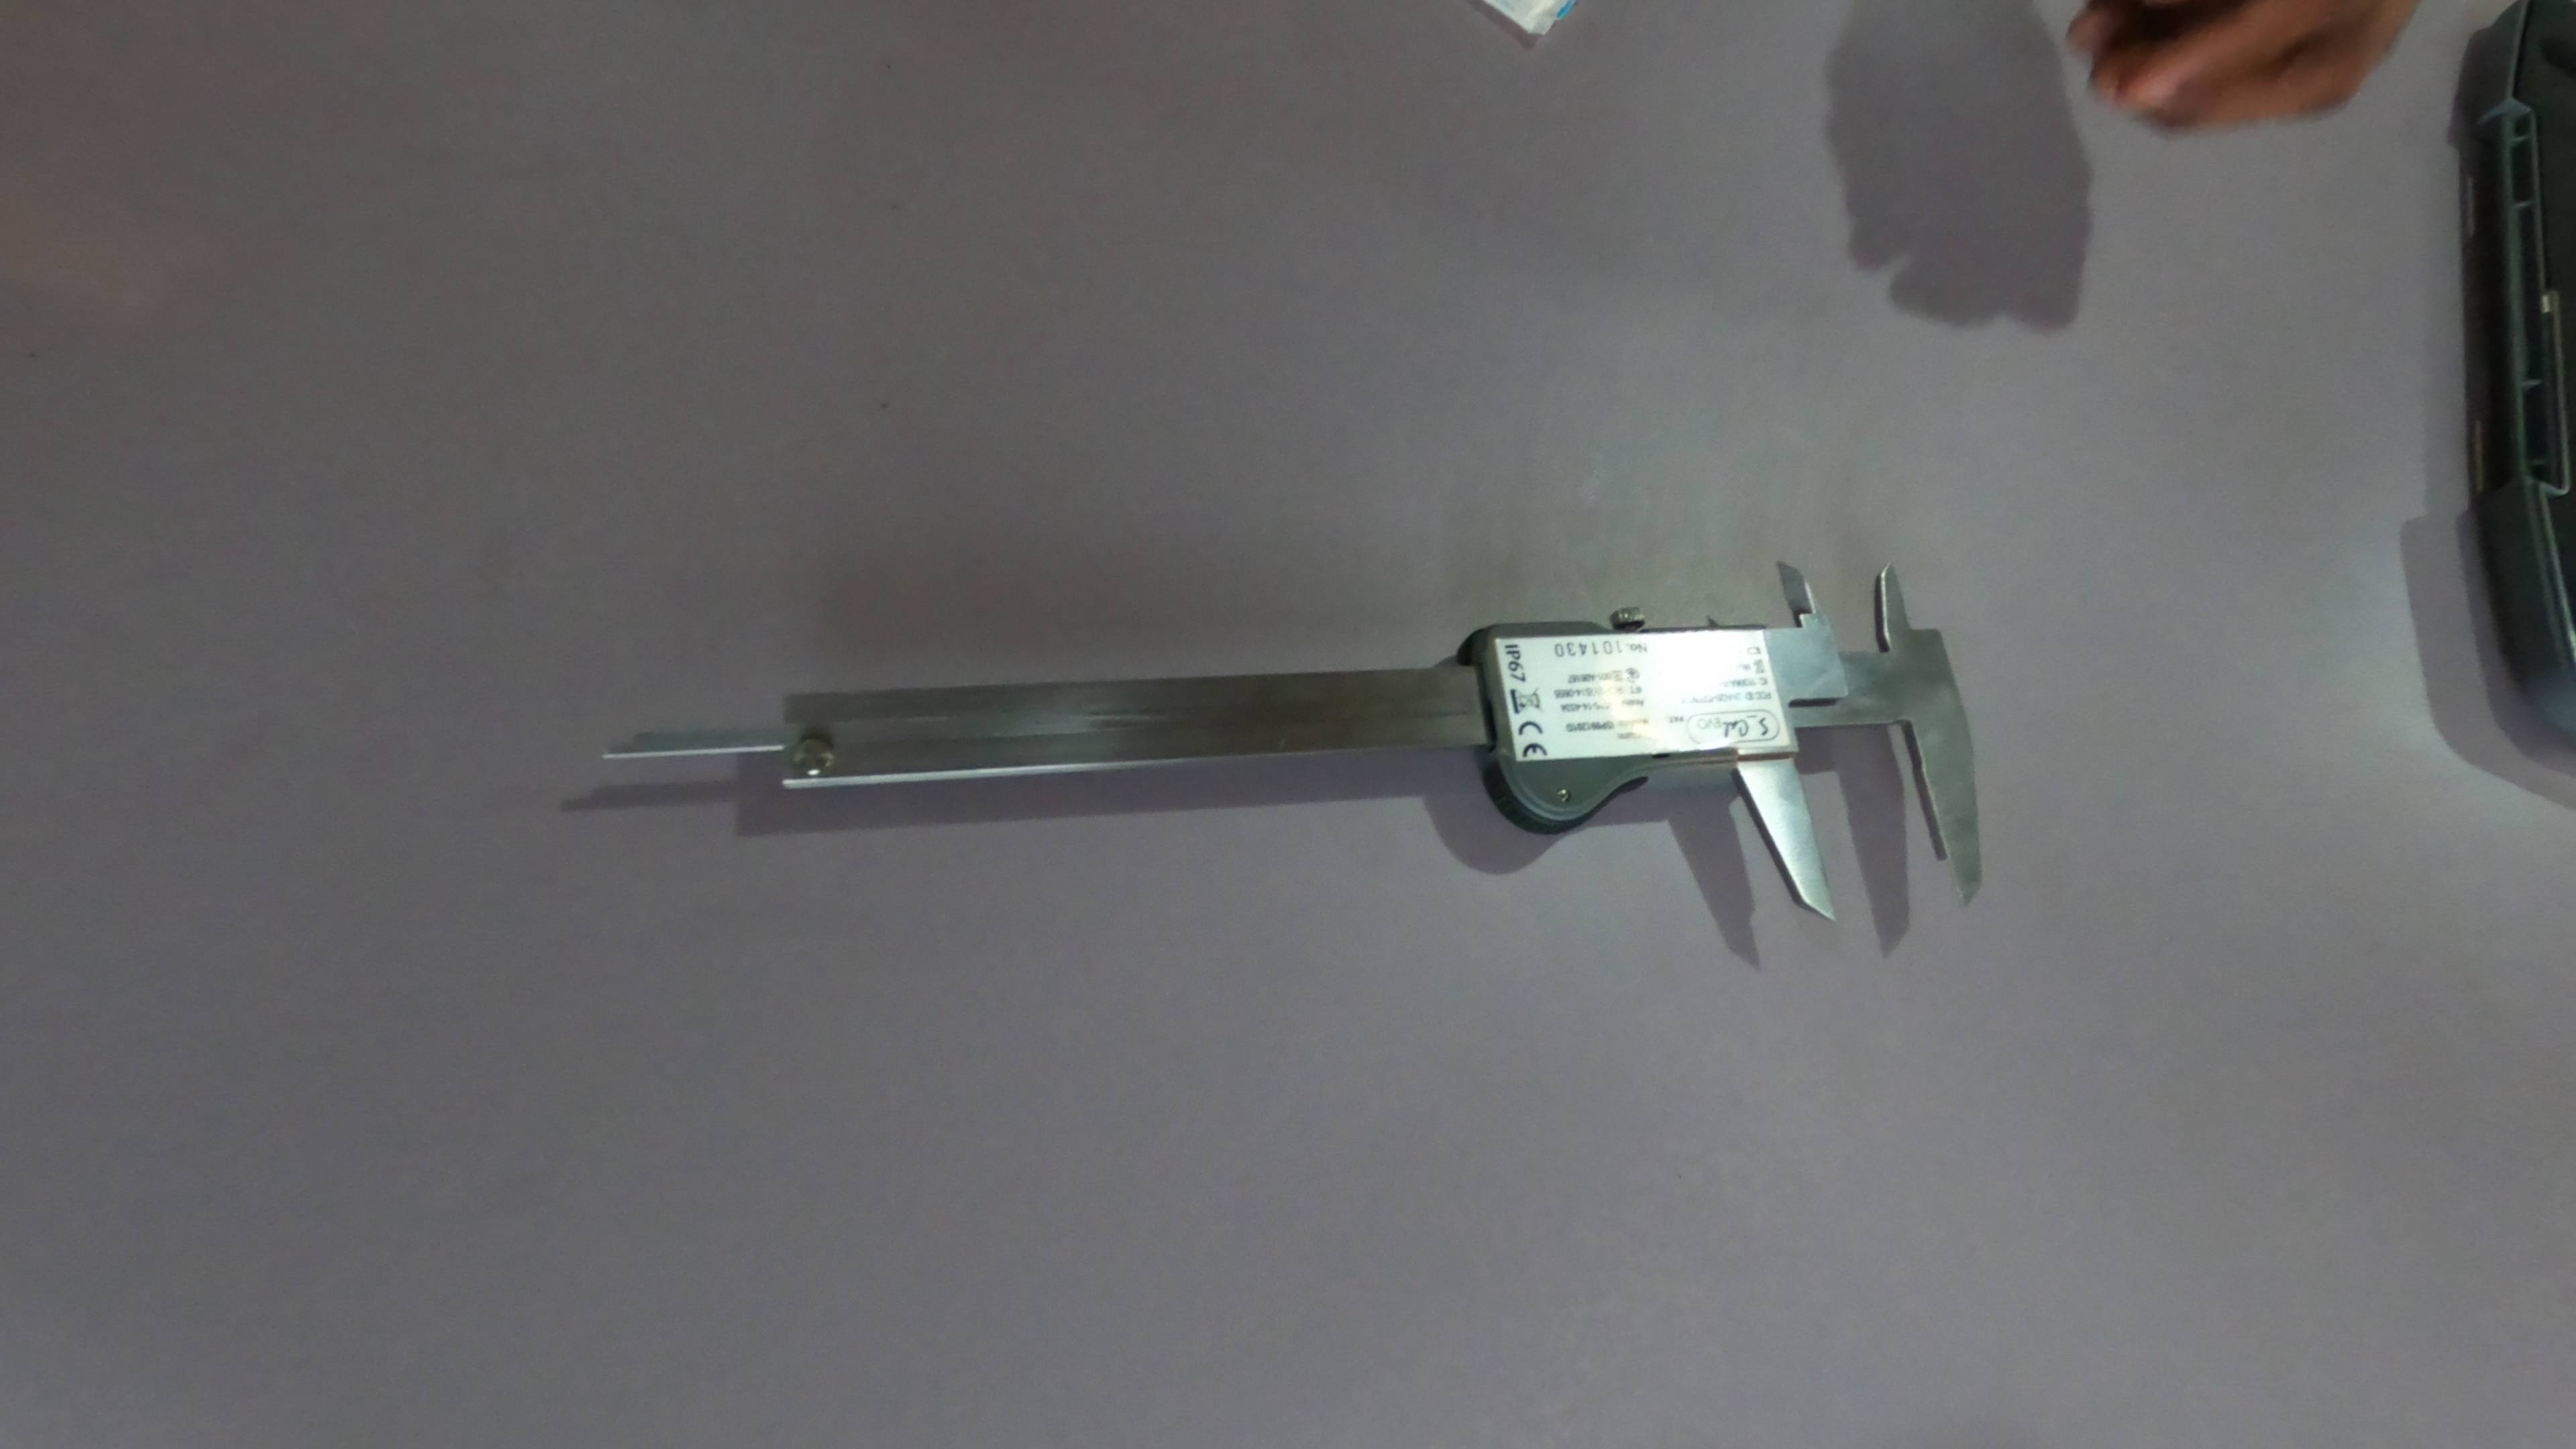vernier_caliper: (594, 559, 1990, 920)
